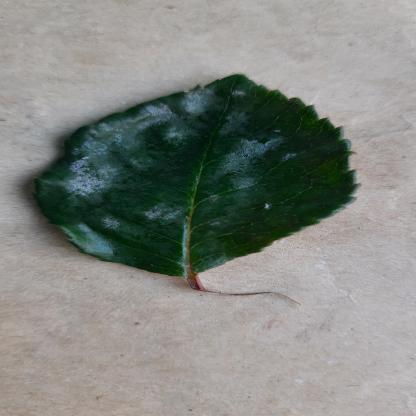powdery-mildew: (19, 72, 365, 280)
